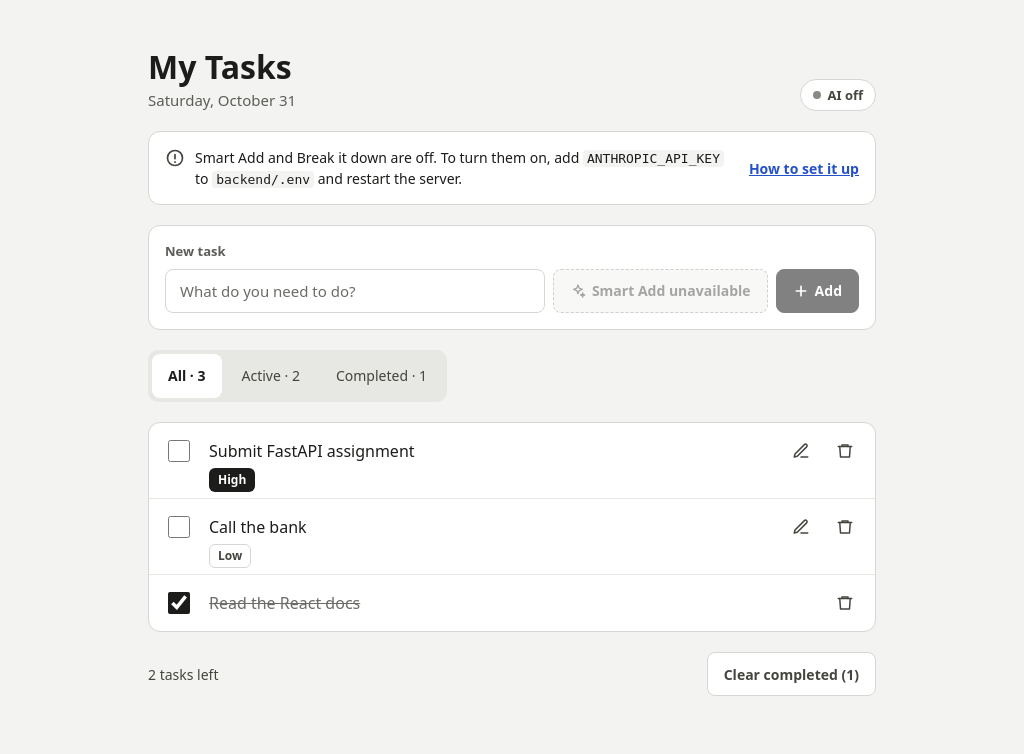
editing, filters and clear completed › edits a task inline
The image size is (1024, 754).
Click the button named "Edit \"Call the bank\"".
click(801, 527)  # box [779,505,823,549]
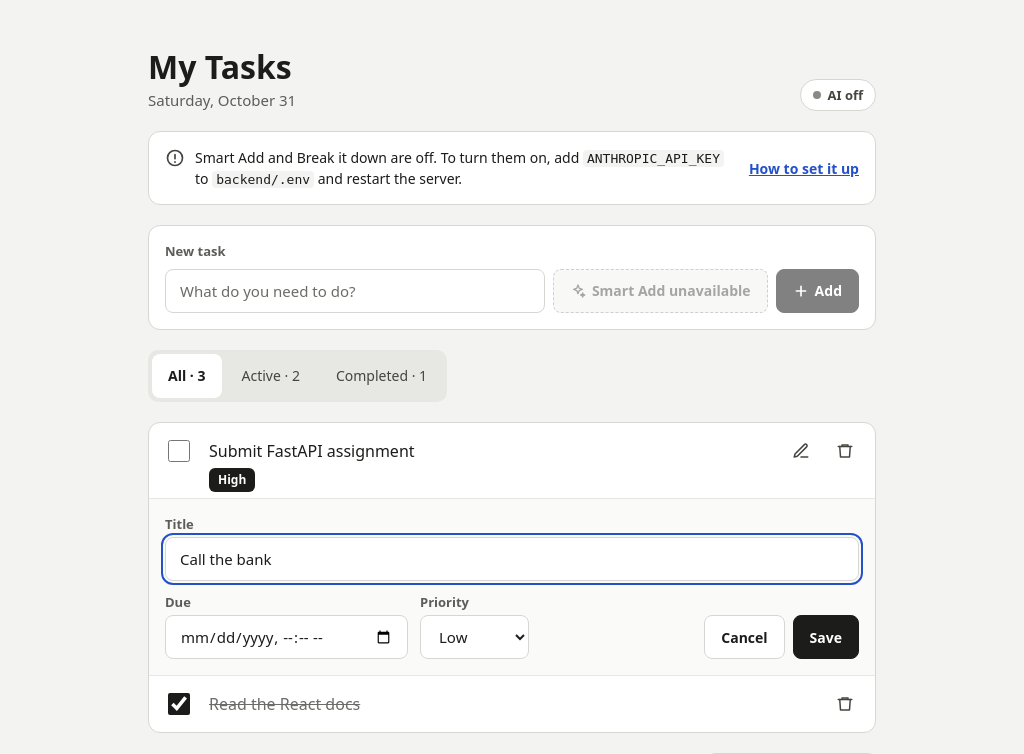
Replace the text in the field labelled "Title" with "Call the bank about the card" at (512, 559), box [165,537,859,581]
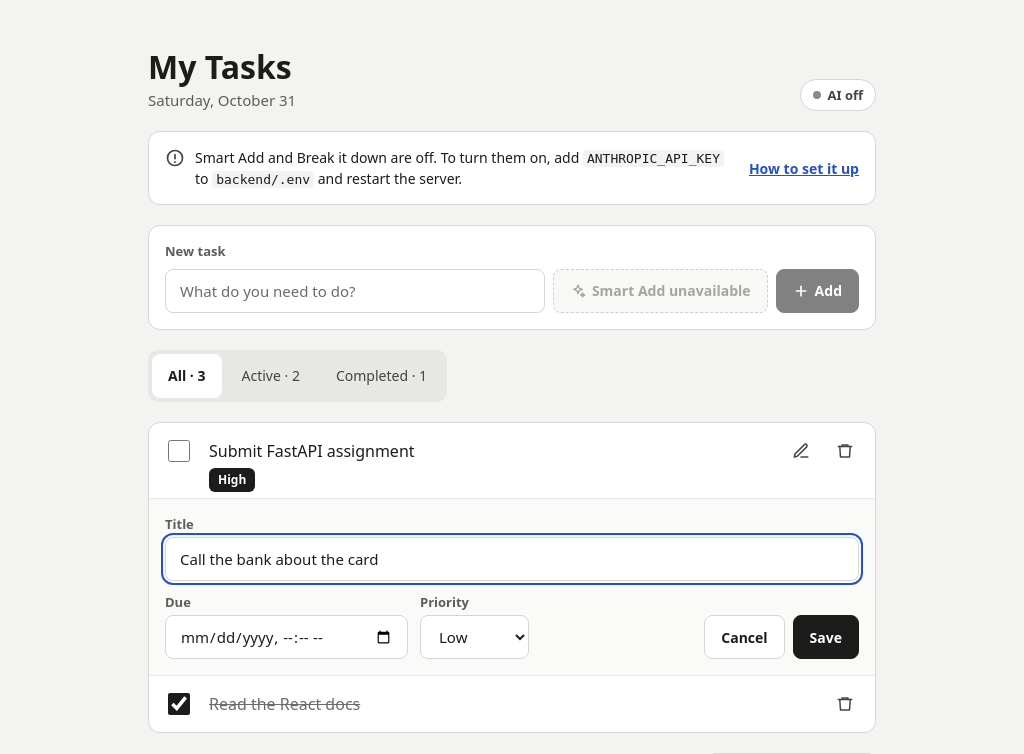
Select "High" in the dropdown labelled "Priority" at (474, 637), box [420,615,529,659]
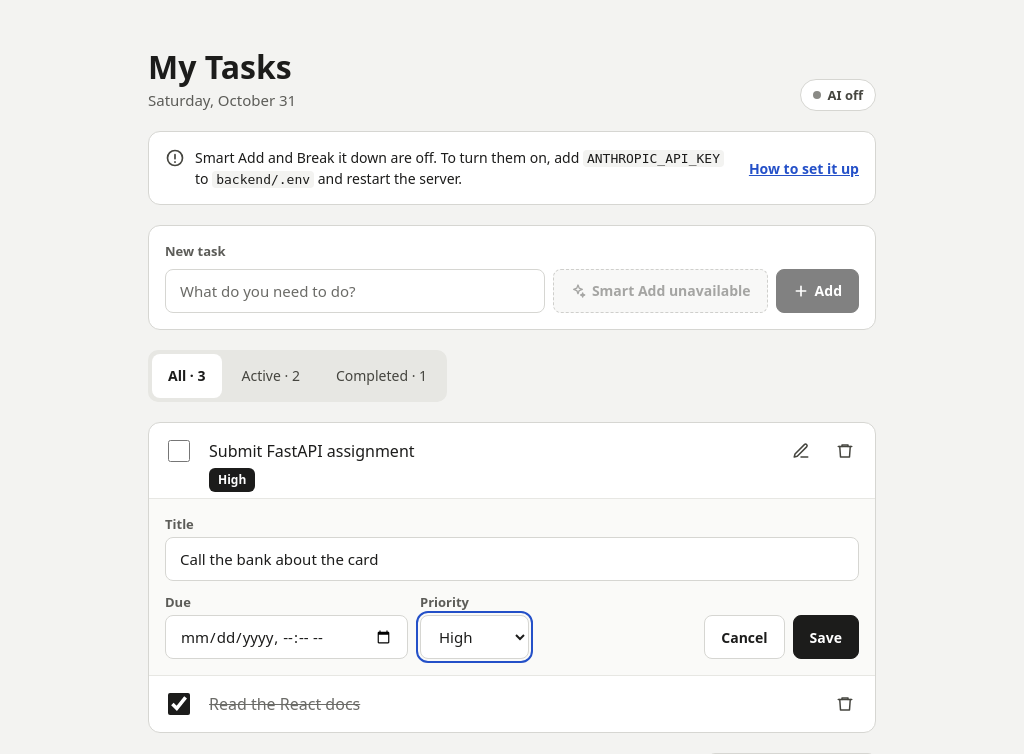
Click the button "Save".
click(826, 637)  # box [793,615,859,659]
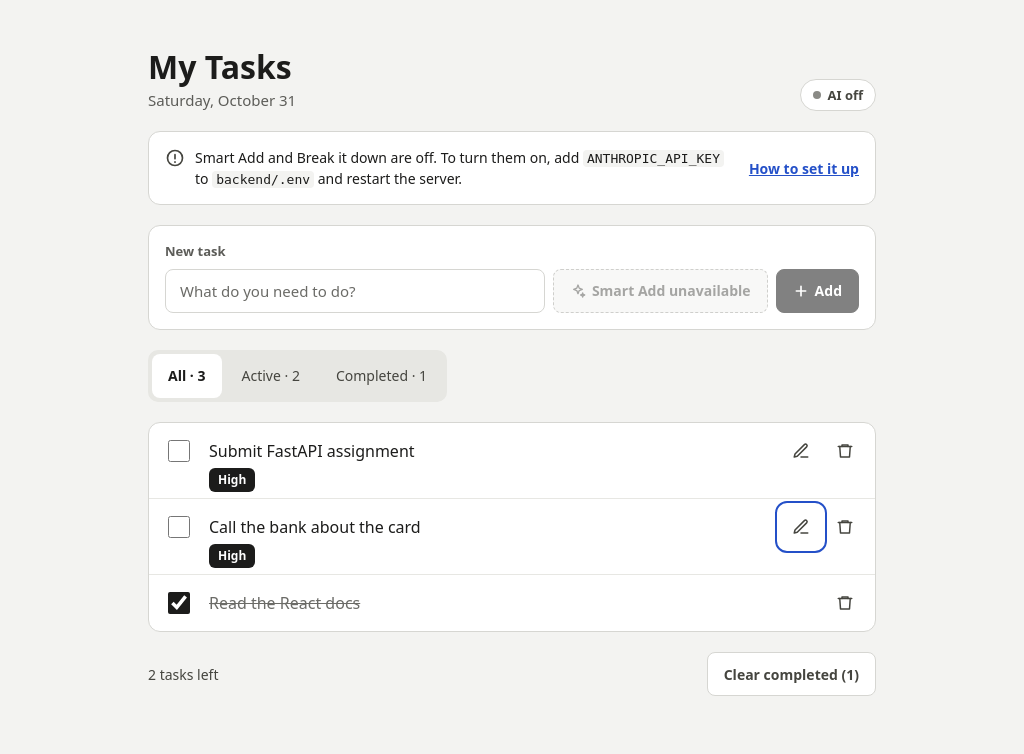
Expected: the checkbox named "Call the bank about the card" is shown, [168,516,190,538]
Expected: the label labelled "Title" is gone
